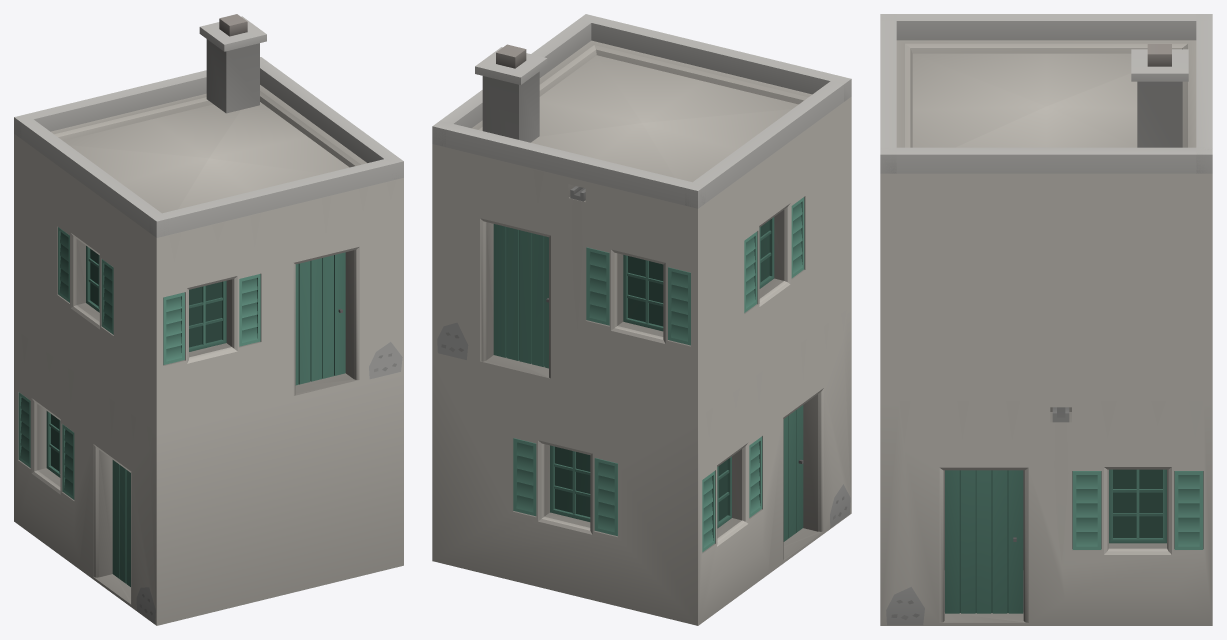
The picture shows the model from 3 angles, left to right: view 1: azimuth 30°, elevation 25°; view 2: azimuth 150°, elevation 25°; view 3: azimuth 270°, elevation 25°; orthographic projection. The views are drawn at different scales.
Parts seen in each view (by area): view 1: cube2b; view 2: cube2b; view 3: cube2b.
Boxes of the visible parts, <box> form: cube2b: <box>14,14,403,625</box>; cube2b: <box>432,14,851,625</box>; cube2b: <box>880,14,1212,625</box>.
Bounding box in the file's own units: 4.4 × 8 × 4.4.
